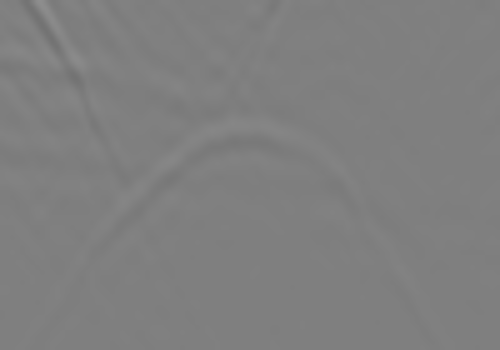hyperbola: (51, 112, 444, 320)
